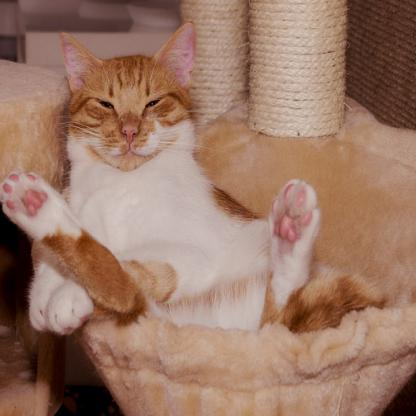cat: (0, 19, 324, 333)
